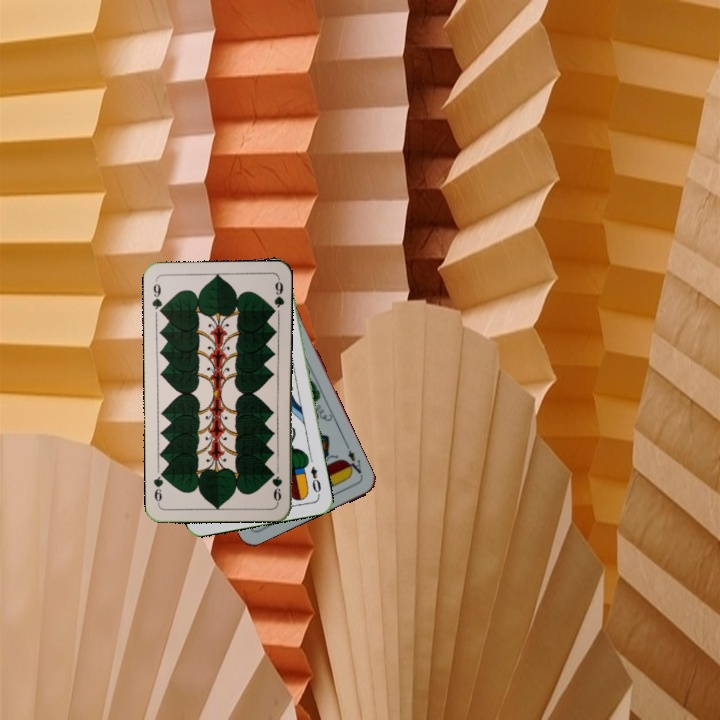EA: (341, 440, 364, 477)
EO: (307, 463, 324, 498)
G9: (148, 277, 166, 317), (269, 464, 284, 505)
